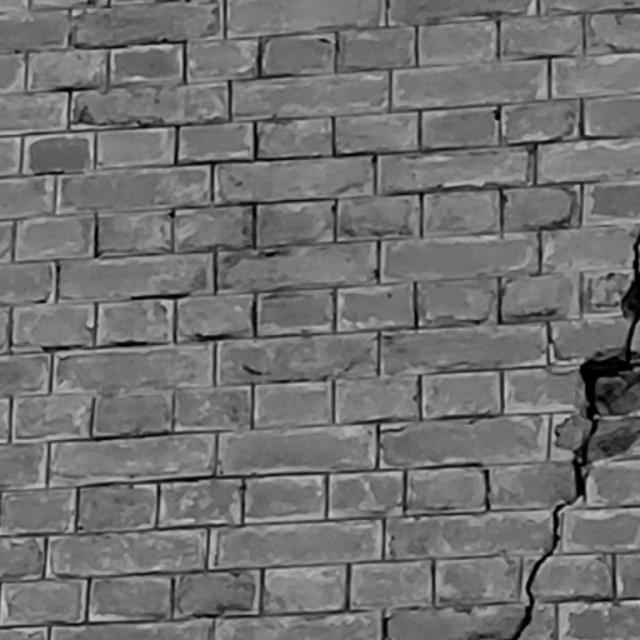crack: (510, 231, 640, 640)
